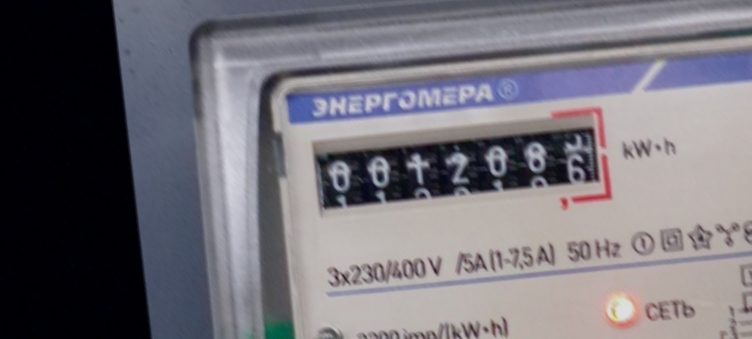0: (482, 140, 511, 178), (366, 150, 393, 189), (328, 155, 352, 194)
1: (407, 148, 428, 187)
2: (444, 147, 474, 185)
6: (562, 147, 589, 185)
8: (521, 137, 548, 175)
screen: (300, 94, 623, 247)
